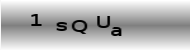1: (28, 12, 42, 26)
Q: (71, 19, 87, 34)
U: (96, 15, 110, 28)
a: (110, 26, 121, 36)
s: (55, 21, 68, 31)
